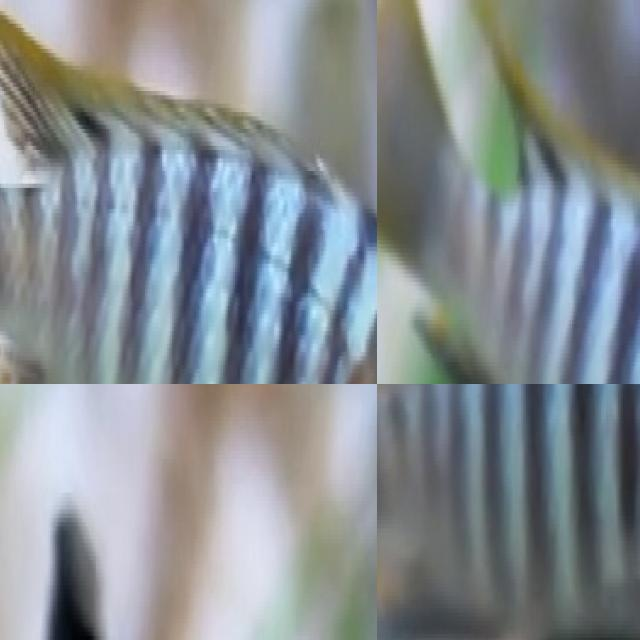fish: (0, 0, 377, 384), (377, 384, 640, 640), (14, 459, 377, 640)
